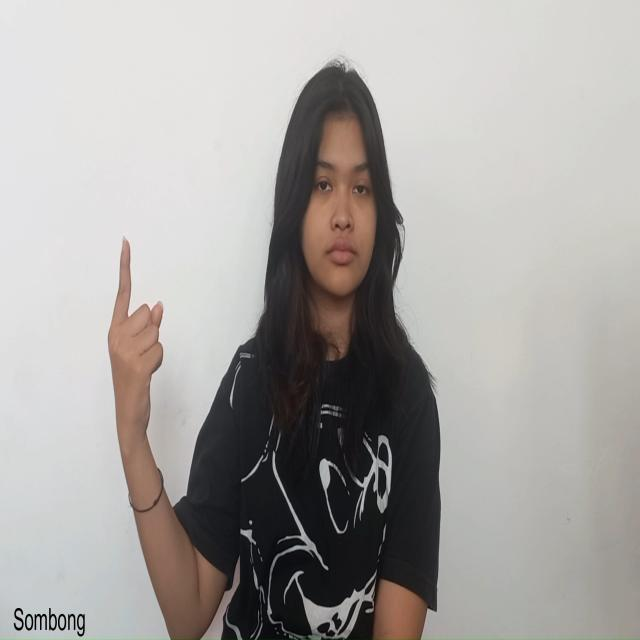Sombong -BISINDO-: (105, 233, 167, 471)
